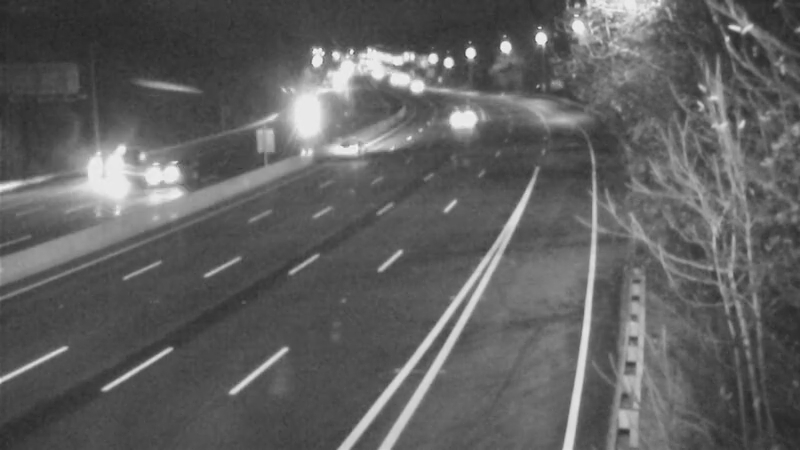vehicle: (68, 137, 148, 217), (118, 138, 198, 218), (428, 96, 478, 146), (336, 116, 386, 166), (276, 85, 326, 135)
